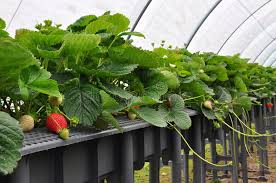ripe: (45, 111, 67, 131), (60, 127, 69, 140), (265, 100, 272, 109)
unripe: (18, 113, 34, 133), (202, 98, 213, 110), (127, 110, 135, 120)
